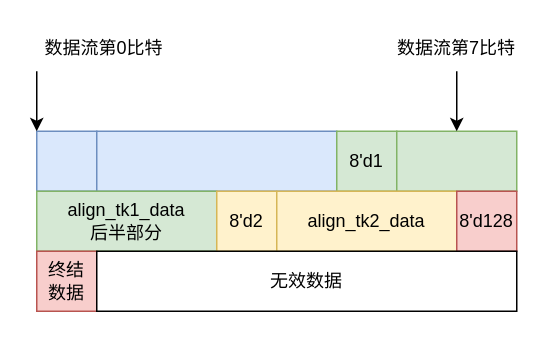
Some shapes in this 551 by 338 pixel diagram are drawn without their labels. The centre of each missing label's shape, as x and y in pixels:
8'd0: point 66,160
8位对齐后的tk0_data: point 216,160
align_tk1_data的前半部分: point 456,160
